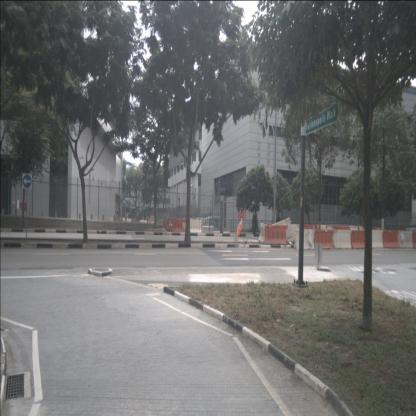movable_object-barrier: (264, 225, 288, 245), (294, 228, 315, 250), (272, 217, 292, 240), (332, 230, 352, 249), (315, 230, 334, 249), (382, 230, 400, 248), (368, 229, 384, 249), (289, 224, 305, 244), (333, 226, 350, 244), (318, 225, 334, 244), (398, 230, 414, 248), (352, 230, 367, 249), (303, 225, 318, 244), (258, 223, 270, 244), (190, 219, 202, 234), (172, 218, 182, 232), (182, 219, 190, 232), (123, 217, 132, 227), (115, 218, 123, 228), (164, 217, 170, 230), (412, 232, 416, 248)
movable_object-trafficcone: (169, 224, 172, 233)
